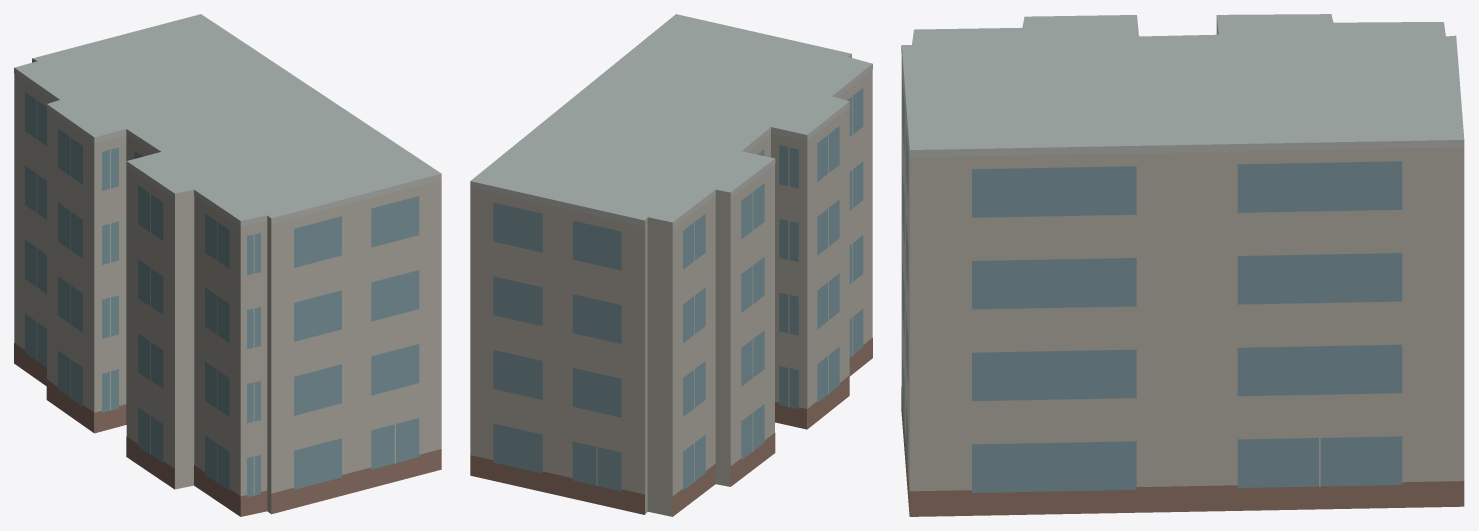
File: survey-upis-32549448.glb
3 views of the same model, side by side, from view 1: azimuth 30°, elevation 25°; view 2: azimuth 150°, elevation 25°; view 3: azimuth 270°, elevation 25° (orthographic). The views are drawn at different scales.
Parts seen in each view (by area): view 1: survey-upis-32549448.tmp; view 2: survey-upis-32549448.tmp; view 3: survey-upis-32549448.tmp.
Boxes of the visible parts, x1=… form: survey-upis-32549448.tmp: x1=14, y1=14, x2=441, y2=516; survey-upis-32549448.tmp: x1=470, y1=14, x2=872, y2=516; survey-upis-32549448.tmp: x1=901, y1=14, x2=1464, y2=516.
Bounding box in the file's own units: 9.71 × 12.2 × 16.97.
